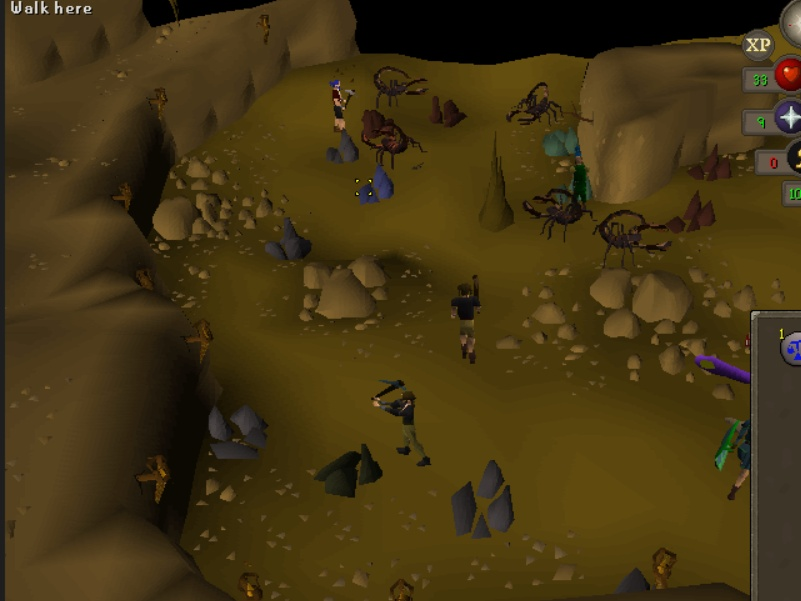adamant: (540, 123, 586, 160), (551, 170, 597, 207)
coal: (307, 438, 389, 501)
iron: (686, 139, 740, 188), (669, 189, 723, 238), (427, 90, 472, 129), (357, 103, 402, 142)
mithril: (354, 162, 400, 206)
